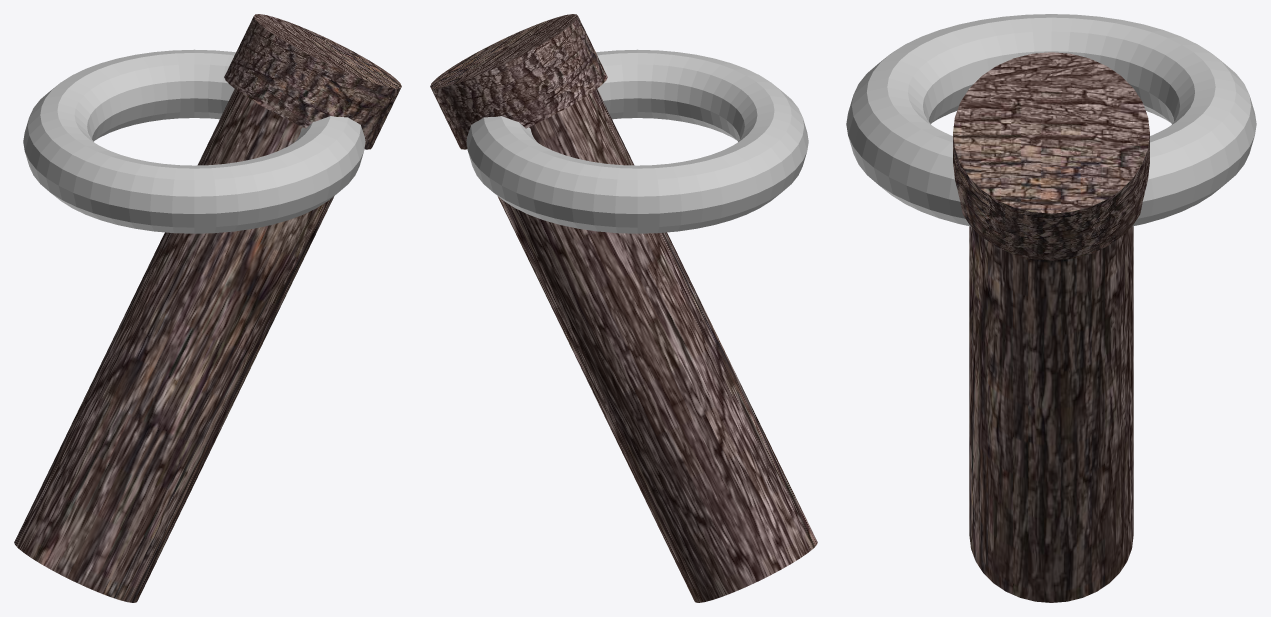
File: torch.obj
3 views of the same model, side by side, from view 1: azimuth 30°, elevation 25°; view 2: azimuth 150°, elevation 25°; view 3: azimuth 270°, elevation 25° (orthographic). The views are drawn at different scales.
Parts seen in each view (by area): view 1: base_Cylinder, wallring_Torus, top_Cylinder.001; view 2: base_Cylinder, wallring_Torus, top_Cylinder.001; view 3: base_Cylinder, wallring_Torus, top_Cylinder.001.
Boxes of the visible parts, box(x1,y1,x2,y2) form: base_Cylinder: box(14, 89, 334, 602); wallring_Torus: box(23, 49, 365, 233); top_Cylinder.001: box(224, 14, 401, 149); base_Cylinder: box(497, 89, 817, 602); wallring_Torus: box(466, 49, 808, 233); top_Cylinder.001: box(430, 14, 607, 149); base_Cylinder: box(969, 226, 1133, 602); wallring_Torus: box(846, 14, 1256, 226); top_Cylinder.001: box(953, 52, 1149, 260).
Bounding box in the file's own units: 6.16 × 8.5 × 5.
